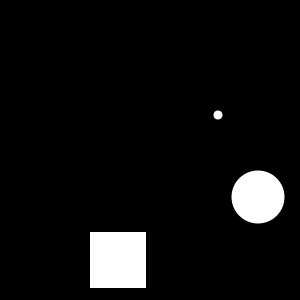circle: (90, 232, 146, 288)
rectangle: (231, 170, 284, 224), (214, 110, 222, 120)
